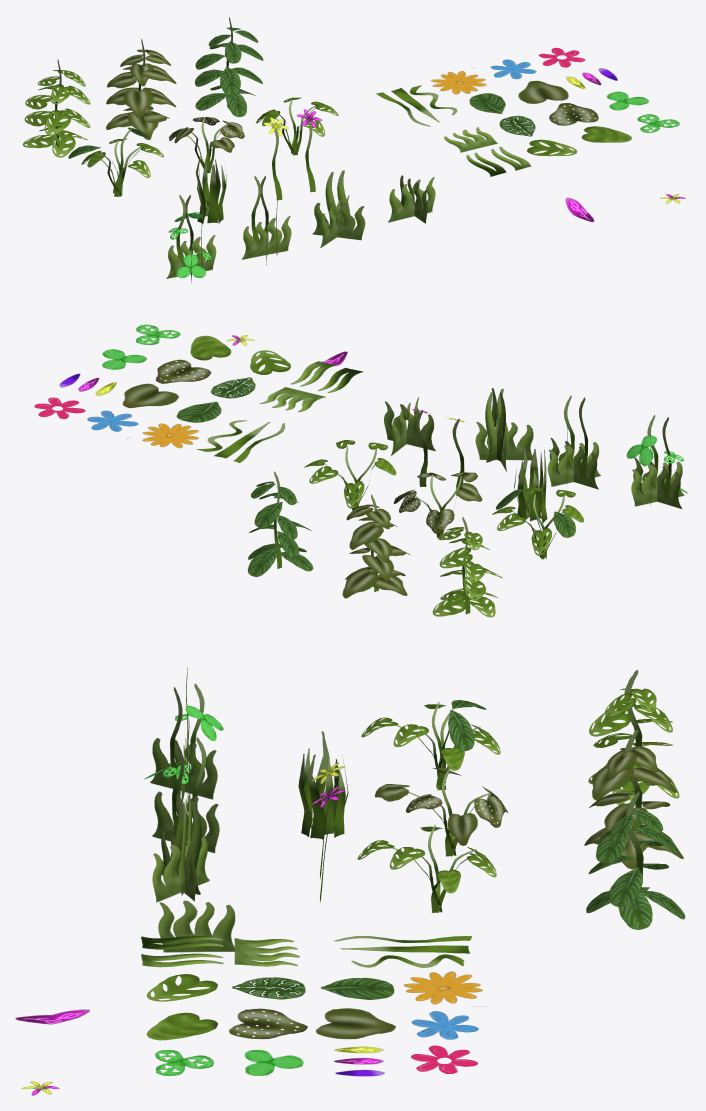
Rendered from low_poly_plants.glb.
3 views of the same model, one above another, from view 1: azimuth 30°, elevation 25°; view 2: azimuth 150°, elevation 25°; view 3: azimuth 270°, elevation 25° (orthographic). The views are drawn at different scales.
Visible parts, largest first — view 1: pCube1, polySurface113, pCube67, pCube48, pCube81, polySurface105, group2_pCube61, polySurface108, group1_pCube50, polySurface94, polySurface132, polySurface92 (+4 smaller); view 2: pCube1, polySurface113, pCube67, pCube48, pCube81, group2_pCube61, polySurface105, group1_pCube50, polySurface108, polySurface95, polySurface96, polySurface130 (+3 smaller); view 3: pCube1, polySurface113, pCube67, pCube81, group2_pCube61, polySurface108, polySurface105, group1_pCube50, pCube48, polySurface94, polySurface96, polySurface137 (+1 smaller).
Part boxes in pixels (<box>): pCube1: <box>376,48,679,176</box>; polySurface113: <box>194,17,263,117</box>; pCube67: <box>166,195,216,282</box>; pCube48: <box>241,176,291,265</box>; pCube81: <box>68,127,163,196</box>; polySurface105: <box>388,175,435,223</box>; group2_pCube61: <box>168,117,244,172</box>; polySurface108: <box>195,156,226,223</box>; group1_pCube50: <box>256,97,338,155</box>; polySurface94: <box>312,202,365,240</box>; polySurface132: <box>123,89,153,117</box>; polySurface92: <box>325,170,350,230</box>; pCube1: <box>34,324,362,462</box>; polySurface113: <box>248,471,313,576</box>; pCube67: <box>626,415,687,508</box>; pCube48: <box>547,395,600,489</box>; pCube81: <box>492,487,583,559</box>; group2_pCube61: <box>393,472,482,538</box>; polySurface105: <box>384,397,435,455</box>; group1_pCube50: <box>304,440,396,510</box>; polySurface108: <box>514,448,547,523</box>; polySurface95: <box>475,421,533,460</box>; polySurface96: <box>485,388,508,462</box>; polySurface130: <box>342,568,379,598</box>; pCube1: <box>141,936,482,1076</box>; polySurface113: <box>586,791,685,929</box>; pCube67: <box>144,667,223,802</box>; pCube81: <box>361,700,500,790</box>; group2_pCube61: <box>375,768,507,856</box>; polySurface108: <box>298,731,348,839</box>; polySurface105: <box>158,900,235,952</box>; group1_pCube50: <box>357,824,496,912</box>; pCube48: <box>152,721,219,853</box>; polySurface94: <box>152,836,209,902</box>; polySurface96: <box>170,796,201,894</box>; polySurface137: <box>592,765,633,800</box>.
Bounding box in the file's own units: 59.36 × 10.67 × 46.63.
Materials: 1 (1 with a texture image).
